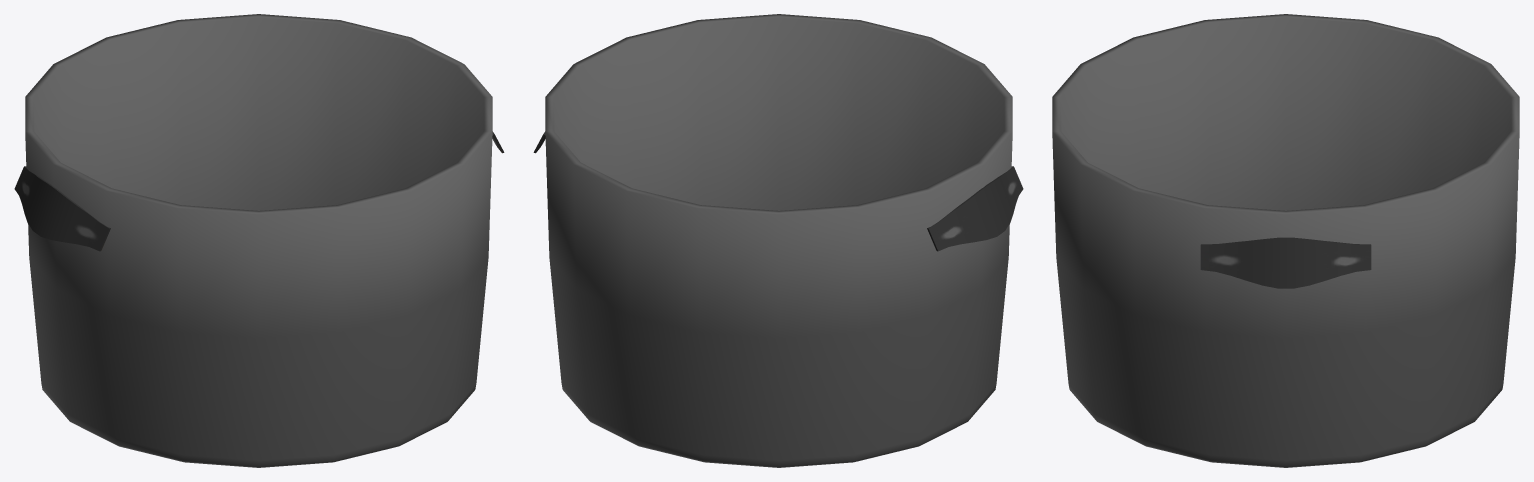
File: Pot_Naughty_2.FBX
3 renders of one model, left to right at view 1: azimuth 30°, elevation 25°; view 2: azimuth 150°, elevation 25°; view 3: azimuth 270°, elevation 25°, orthographic.
Visible parts, largest first — view 1: Pot; view 2: Pot; view 3: Pot.
Boxes of the visible parts, bbox=[...] form: Pot: bbox=[14, 14, 504, 467]; Pot: bbox=[533, 14, 1023, 467]; Pot: bbox=[1052, 14, 1519, 467].
Bounding box in the file's own units: 15.17 × 8.51 × 13.79.
